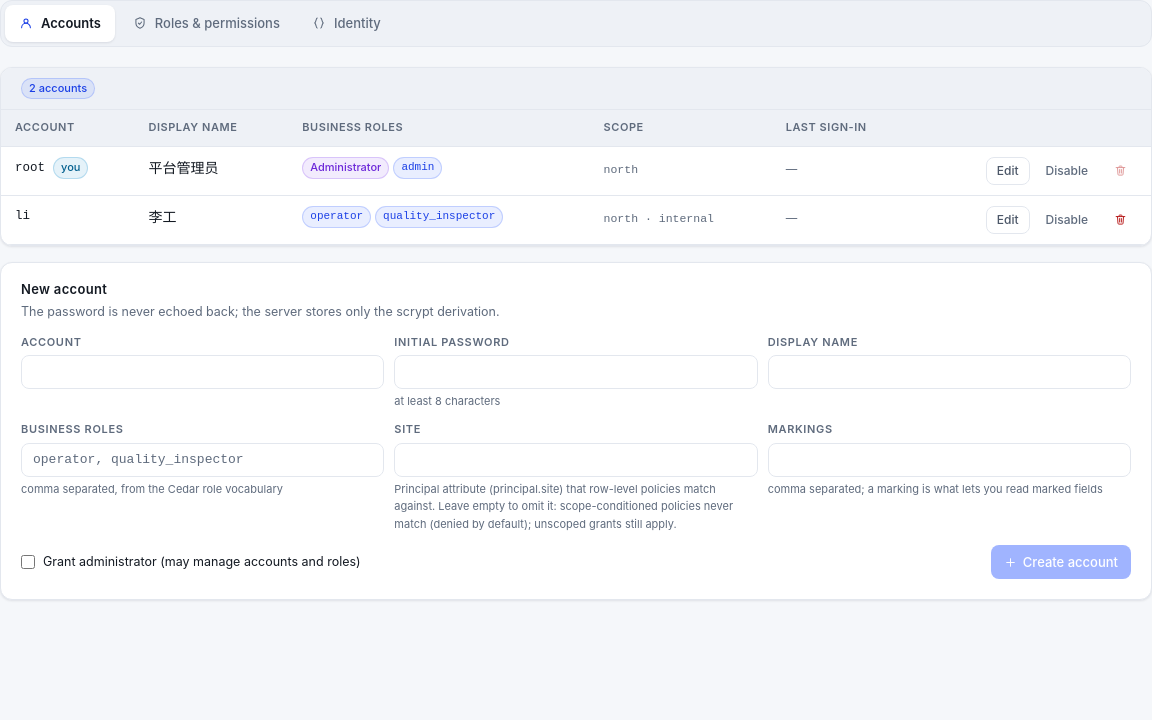
it: Access control › requires eight characters when creating or resetting a password
The image size is (1152, 720).
Expected: the button with test id "create-user" is shown, [991,545,1131,579]
In the field with test id "new-username": (203, 372) [21,355,384,389], type "wang"
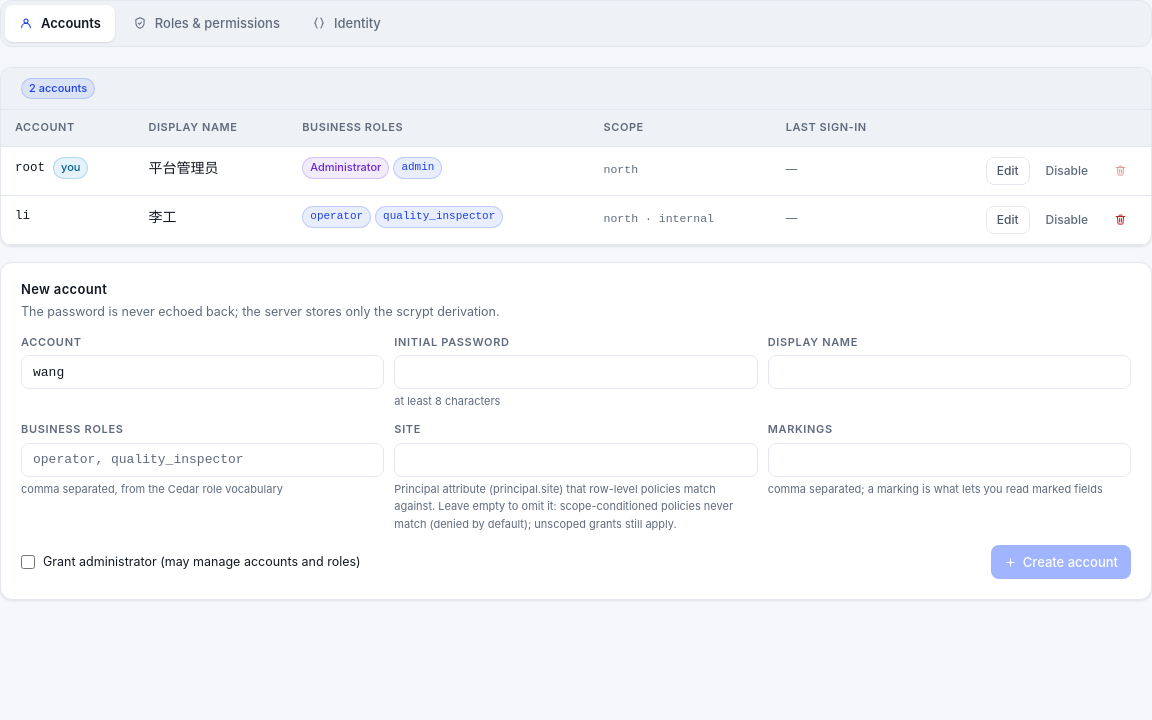
In the password field with test id "new-password": (576, 372) [394,355,758,389], type "1234567"
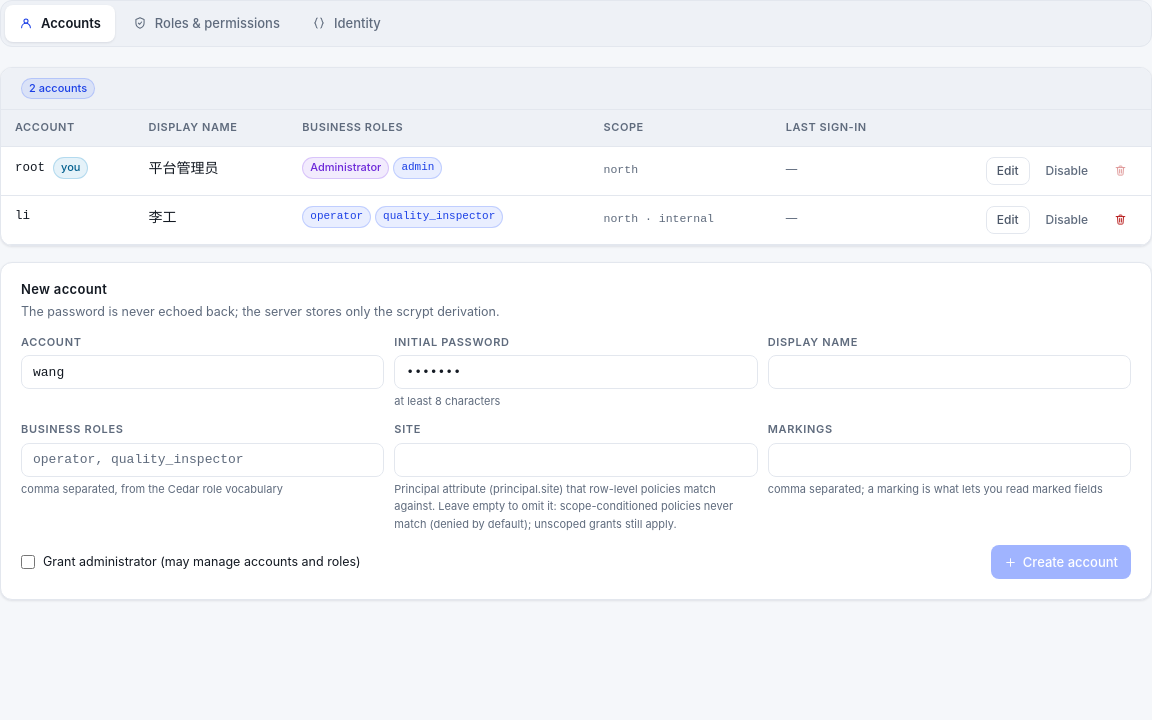
Expected: the button with test id "create-user" is disabled, [991,545,1131,579]
In the password field with test id "new-password": (576, 372) [394,355,758,389], type "00001234"
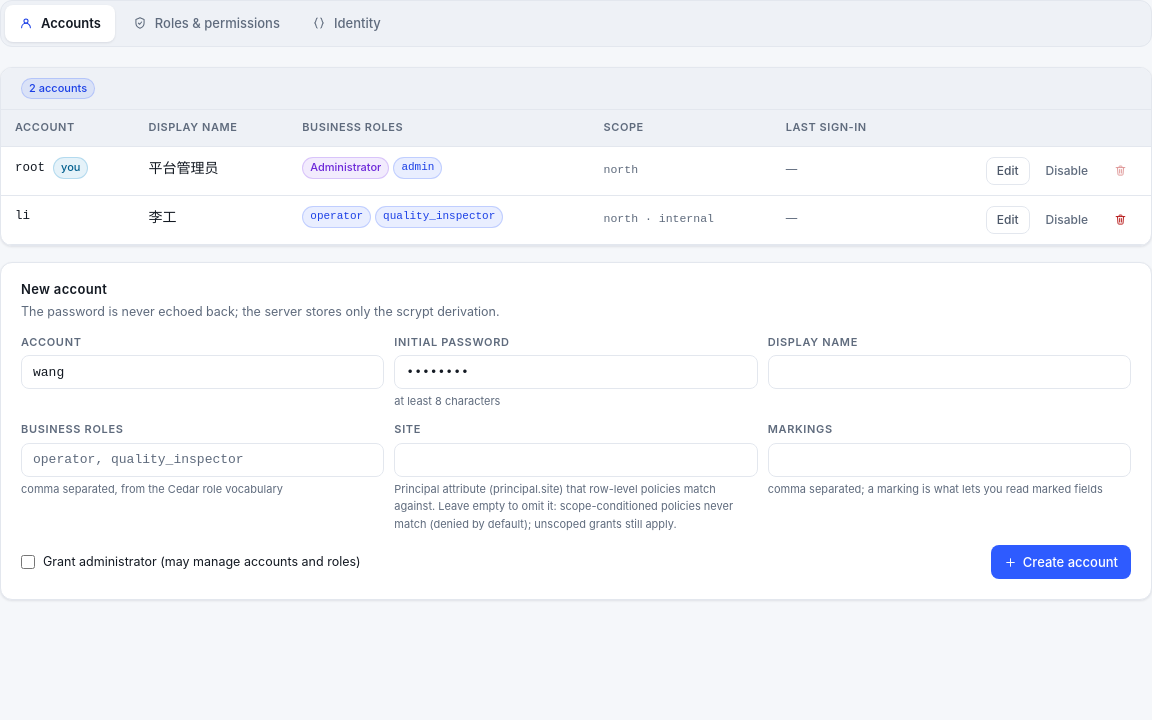
Expected: the button with test id "create-user" is enabled, [991,545,1131,579]
Click the button with test id "edit-li": (1008, 220) [986,206,1030,234]
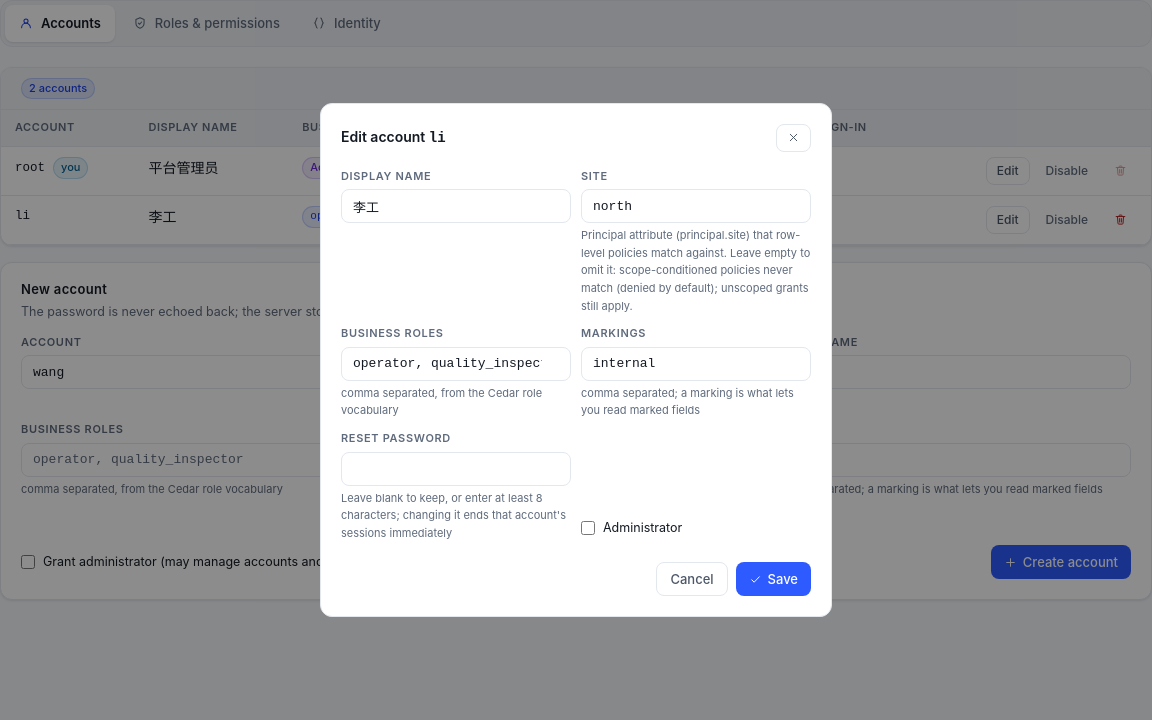
Expected: the button with test id "save-user" is enabled, [736,562,811,596]
In the password field with test id "edit-password": (456, 469) [341,452,571,486], type "1234567"
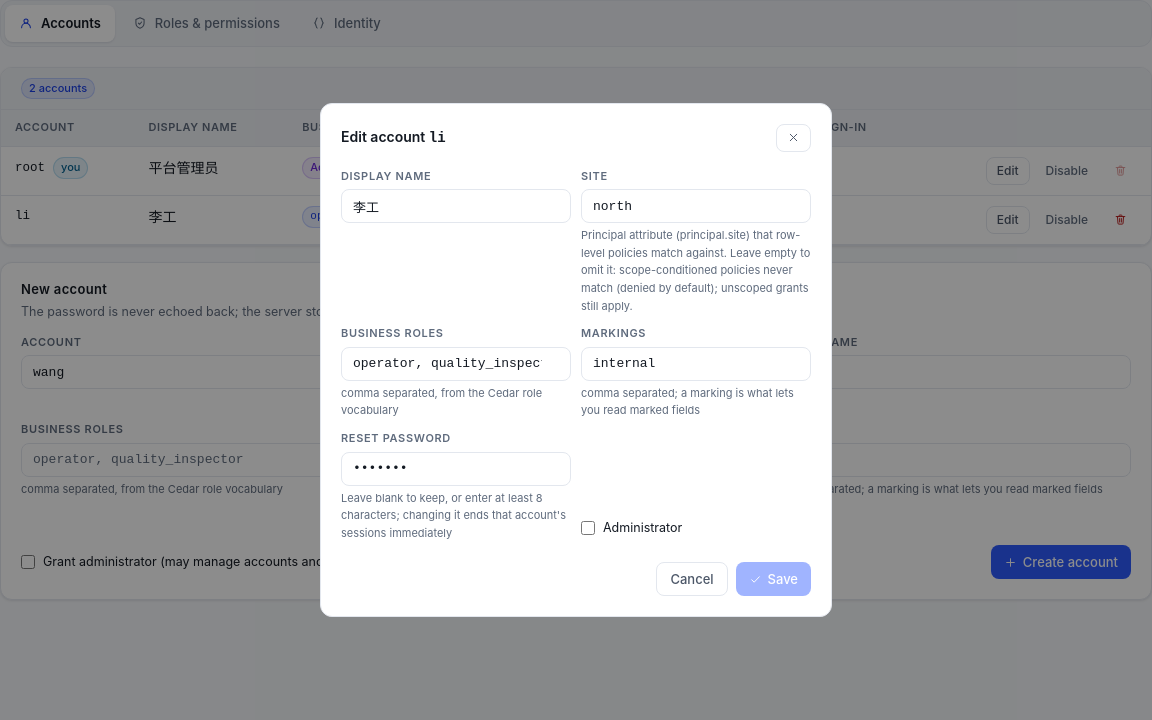
Expected: the button with test id "save-user" is disabled, [736,562,811,596]
In the password field with test id "edit-password": (456, 469) [341,452,571,486], type "00001234"
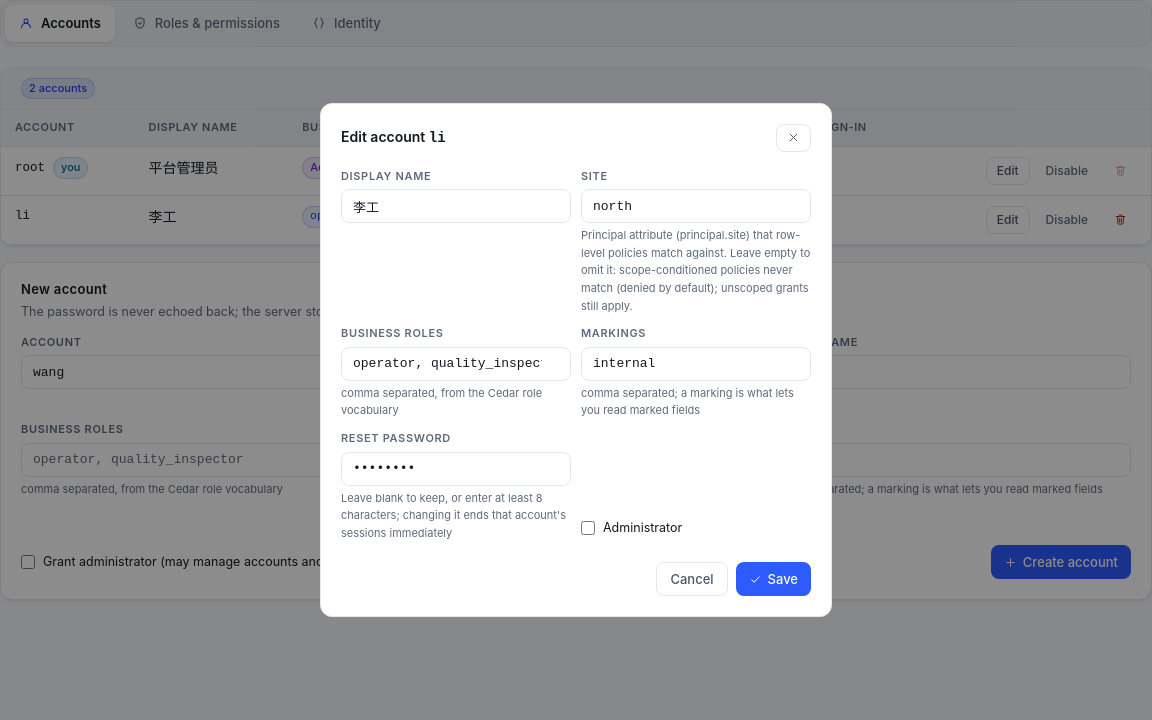
Expected: the button with test id "save-user" is enabled, [736,562,811,596]
